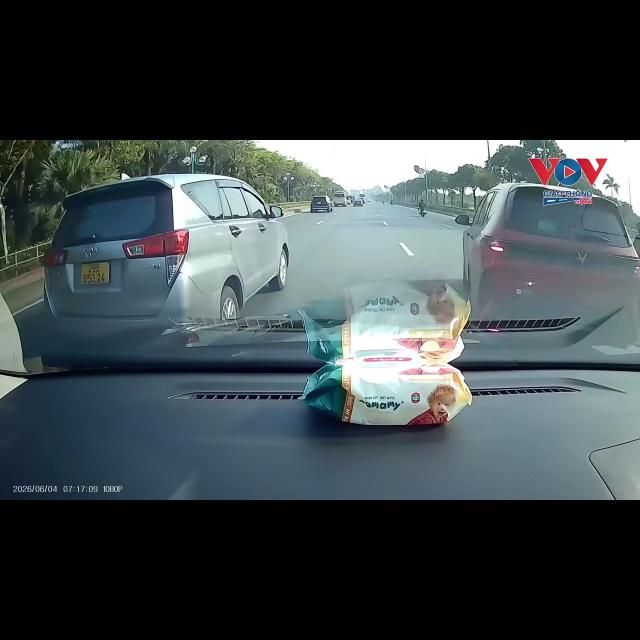car: (44, 174, 288, 338), (456, 183, 639, 319), (310, 196, 332, 212), (353, 198, 363, 206), (346, 198, 351, 204)
motorcycle: (419, 208, 426, 217)
